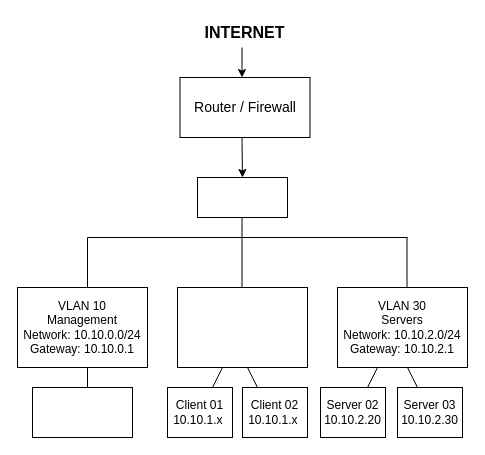
Some shapes in this 485 by 455 pixel diagram are drawn without their labels. Each missing label, with the centre of its shape:
"DC01 10.10.0.1" goes at (82,412).
"Switch" goes at (242,197).
"VLAN 20 Workstations Network: 10.10.1.0/24 Gateway: 10.10.1.1" goes at (242,327).
